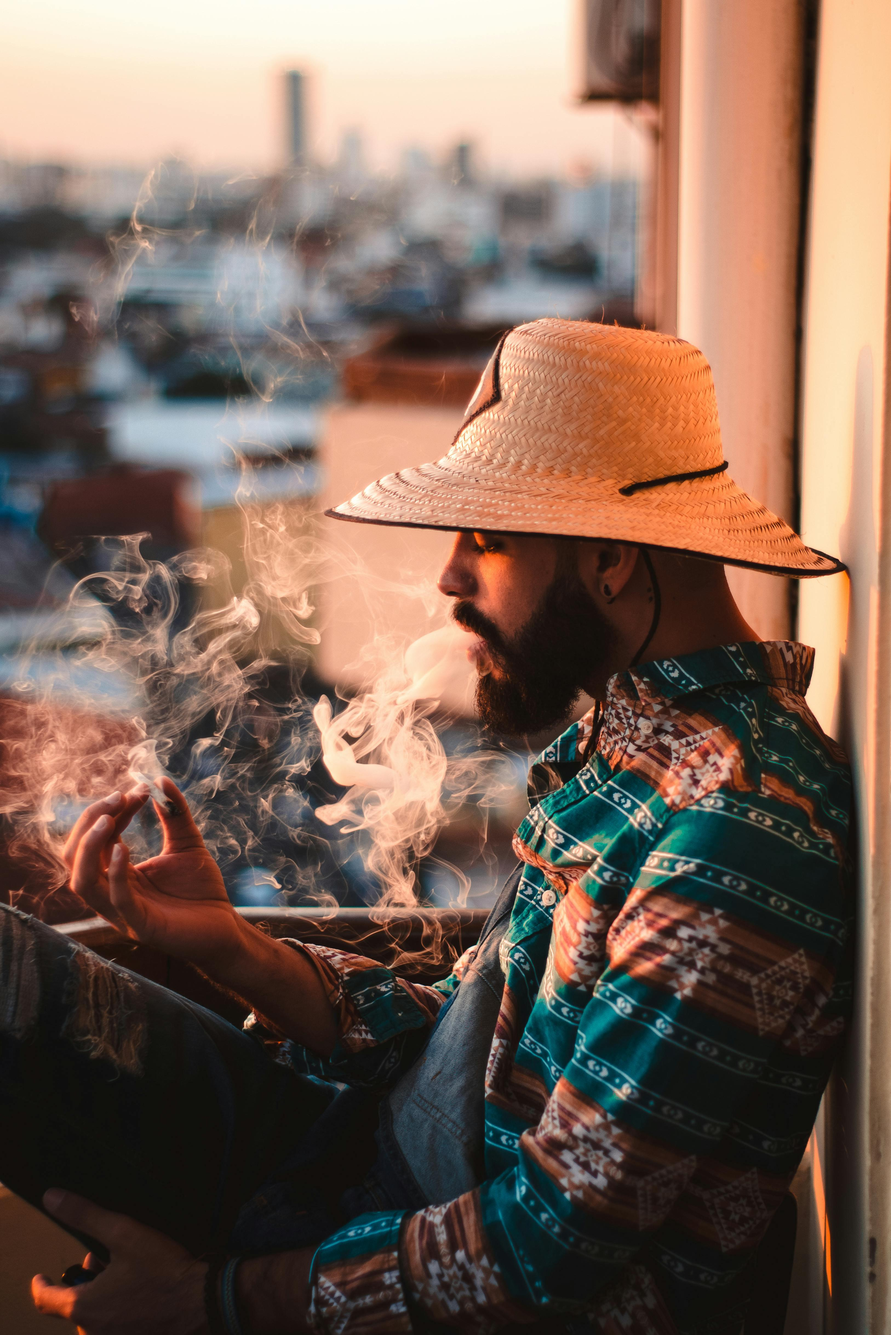smoker: (12, 316, 842, 1233)
